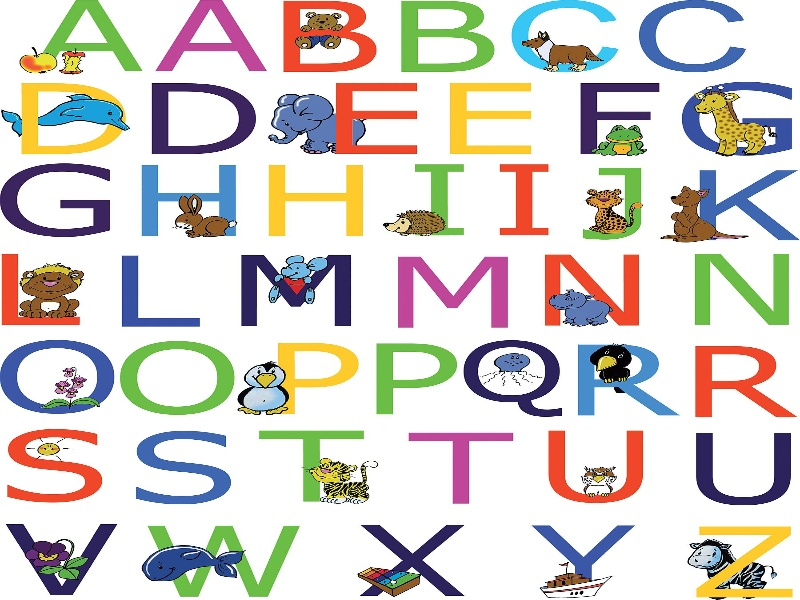letter: (125, 529, 322, 599), (530, 422, 665, 504), (233, 249, 359, 327), (250, 332, 365, 417), (386, 253, 513, 328), (686, 342, 795, 426), (1, 158, 119, 235), (400, 428, 519, 504), (669, 523, 796, 594), (351, 521, 472, 595), (520, 520, 636, 597), (680, 256, 796, 331), (150, 1, 271, 72), (115, 340, 242, 407), (149, 80, 258, 157), (264, 161, 369, 240), (681, 436, 799, 506), (638, 1, 751, 73), (128, 429, 236, 503), (8, 426, 106, 506), (443, 80, 543, 156), (37, 2, 141, 74), (397, 1, 494, 78), (369, 341, 462, 417), (116, 253, 208, 327), (574, 78, 654, 156), (494, 166, 553, 236)
